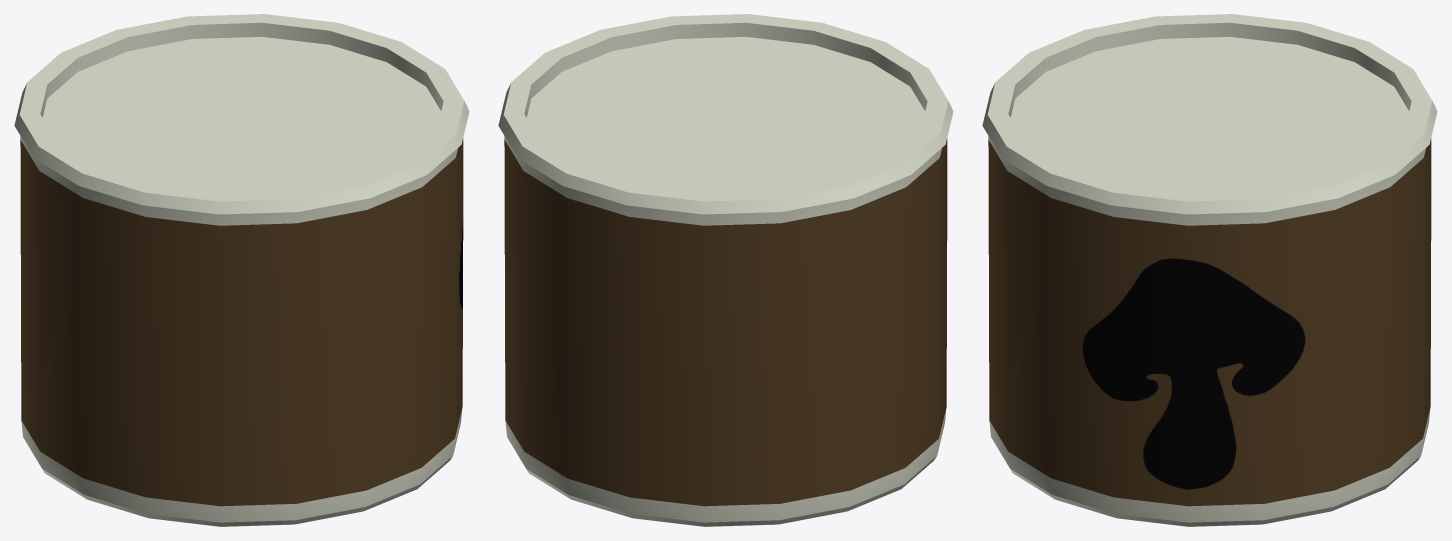
Rendered from mushroom_soup_embeded_textures.fbx.
The picture shows the model from 3 angles, left to right: view 1: azimuth 30°, elevation 25°; view 2: azimuth 150°, elevation 25°; view 3: azimuth 270°, elevation 25°; orthographic projection.
Parts seen in each view (by area): view 1: puszka niska.001; view 2: puszka niska.001; view 3: puszka niska.001.
Part boxes in pixels (x1,y1,x2,y2): puszka niska.001: [14, 14, 469, 526]; puszka niska.001: [498, 14, 953, 526]; puszka niska.001: [982, 14, 1437, 526].
Size of the model in its own units: 32.58 by 26.16 by 32.65.
Materials: 2 (1 with a texture image).
